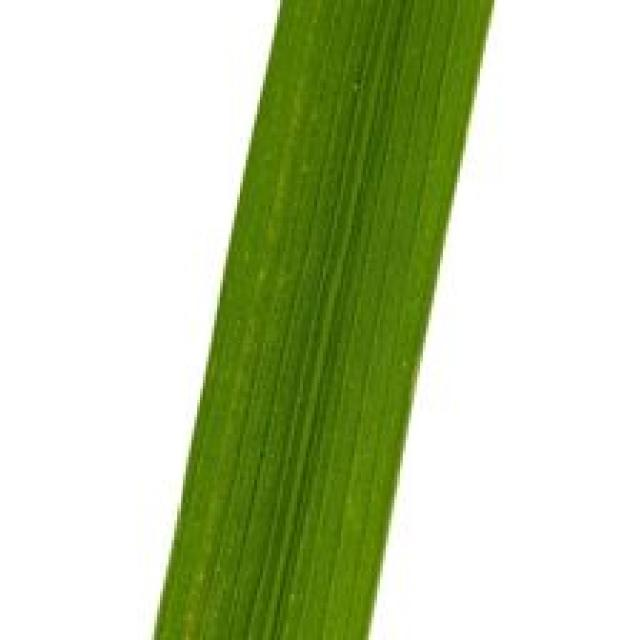Rice___Healthy_Rice_Plant: (151, 0, 496, 637)
